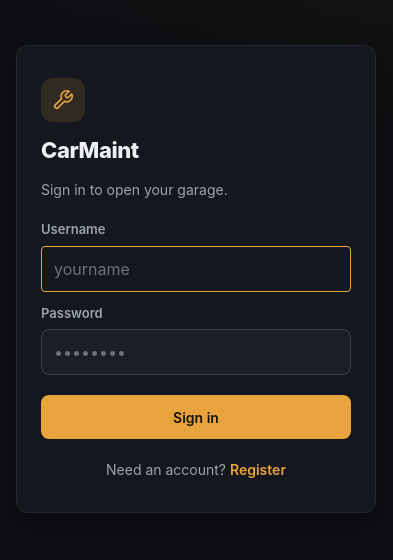
LoginView auth screen › shows the server error on a 401 login
The width and height of the screenshot is (393, 560).
Type "daniel" into the field labelled "Username". click: (196, 268)
box: [41,246,351,292]
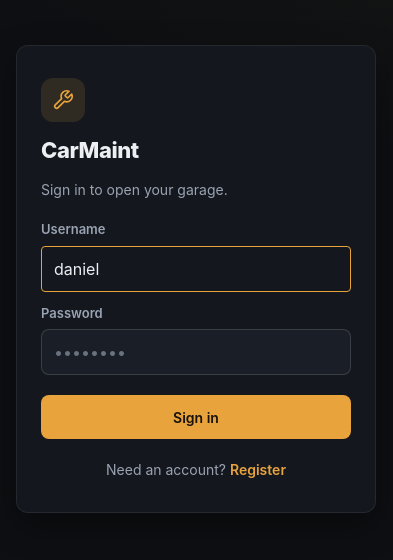
Type "wrongpass1" into the password field labelled "Password". click: (196, 352)
box: [41,329,351,375]
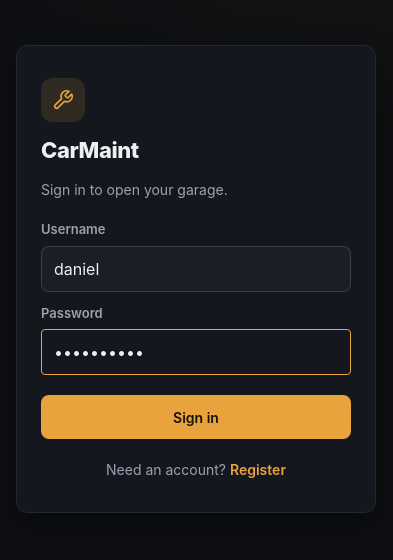
Click the button "Sign in". click: click(196, 417)
box: [41,395,351,439]
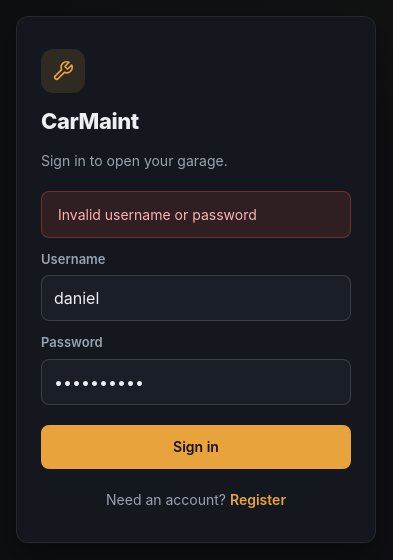
Expected: the message reads "Invalid username or password", [58,206,257,222]
